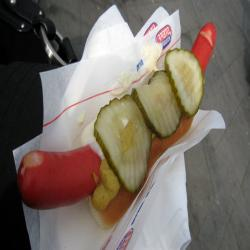hotdog: (9, 22, 245, 223)
